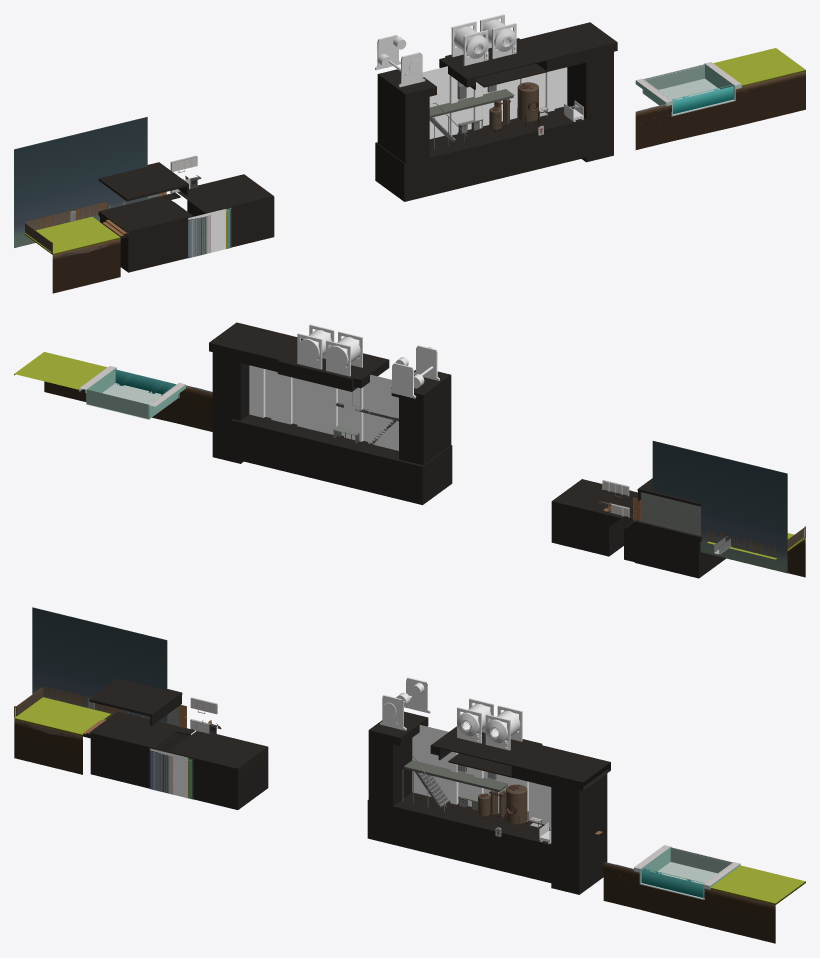
Rendered from level2_full_test.FBX.
3 views of the same model, one above another, from view 1: azimuth 30°, elevation 25°; view 2: azimuth 150°, elevation 25°; view 3: azimuth 330°, elevation 25° (orthographic).
Visible parts, largest first — view 1: walls_back, ground_backyard, background_plane, underground, ground_yard, garage, underground_hider, Object03, fence_wooden, Box01, Box09, water (+4 smaller); view 2: walls_back, background_plane, underground, ground_backyard, garage, Box09, ground_yard, fence_wooden, Cylinder02, water, Cylinder05, Box07 (+2 smaller); view 3: walls_back, ground_backyard, background_plane, underground, ground_yard, garage, underground_hider, Box01, Object03, Box09, fence_wooden, water (+4 smaller).
Part boxes in pixels (bbox=[...]): walls_back: bbox=[375, 22, 617, 201]; ground_backyard: bbox=[635, 48, 805, 149]; background_plane: bbox=[14, 117, 147, 247]; underground: bbox=[100, 174, 274, 272]; ground_yard: bbox=[24, 216, 120, 293]; garage: bbox=[98, 162, 188, 236]; underground_hider: bbox=[188, 207, 231, 258]; Object03: bbox=[489, 82, 539, 132]; fence_wooden: bbox=[25, 202, 107, 253]; Box01: bbox=[429, 89, 514, 141]; Box09: bbox=[375, 35, 425, 87]; water: bbox=[673, 86, 733, 114]; walls_back: bbox=[209, 322, 452, 504]; background_plane: bbox=[652, 441, 787, 573]; underground: bbox=[551, 479, 725, 578]; ground_backyard: bbox=[14, 352, 212, 431]; garage: bbox=[637, 478, 701, 541]; Box09: bbox=[389, 345, 439, 398]; ground_yard: bbox=[706, 533, 805, 577]; fence_wooden: bbox=[701, 526, 805, 557]; Cylinder02: bbox=[326, 336, 360, 369]; water: bbox=[115, 369, 178, 397]; Cylinder05: bbox=[297, 329, 331, 362]; Box07: bbox=[326, 331, 362, 376]; walls_back: bbox=[367, 711, 610, 894]; ground_backyard: bbox=[603, 845, 805, 943]; background_plane: bbox=[32, 607, 167, 723]; underground: bbox=[90, 712, 268, 809]; ground_yard: bbox=[14, 697, 111, 774]; garage: bbox=[89, 678, 182, 751]; underground_hider: bbox=[149, 748, 193, 799]; Box01: bbox=[404, 760, 508, 807]; Object03: bbox=[478, 784, 528, 829]; Box09: bbox=[380, 677, 430, 730]; fence_wooden: bbox=[14, 686, 126, 717]; water: bbox=[641, 869, 704, 897].
Bounding box in the file's own units: 8854 × 1605 × 891.
